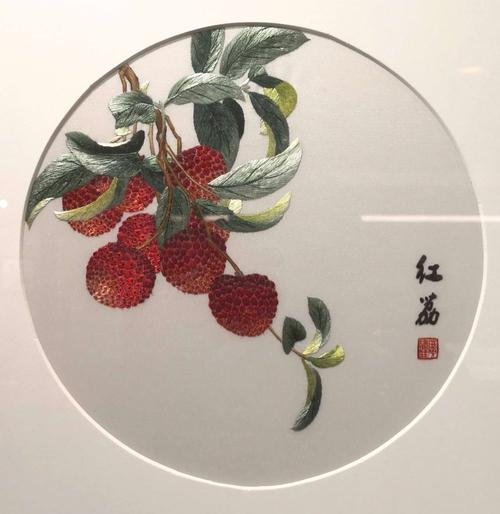lychee: (158, 222, 228, 294), (84, 241, 155, 309), (207, 272, 277, 336), (58, 173, 122, 236), (168, 143, 227, 197), (117, 213, 163, 273), (119, 175, 156, 212), (188, 210, 230, 240)
